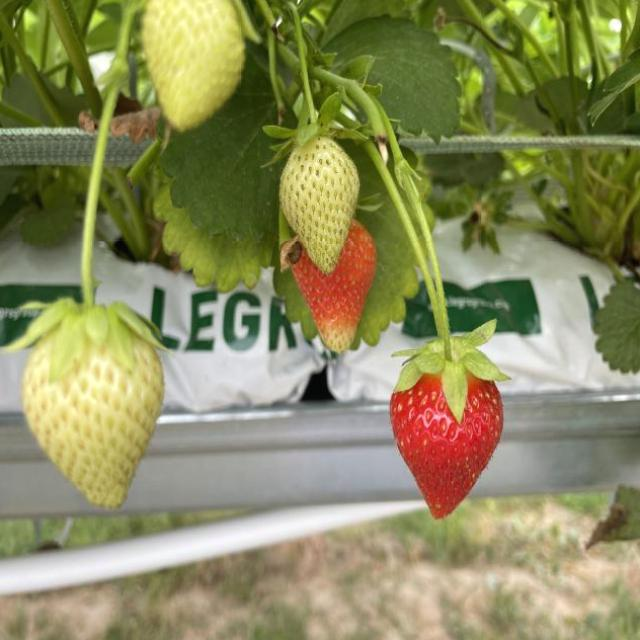stem: (359, 106, 507, 421), (6, 162, 163, 375), (263, 7, 368, 146)
strawberryNR: (22, 336, 163, 506), (140, 0, 244, 130), (279, 136, 360, 274)
strawberryR: (390, 377, 500, 516), (292, 220, 375, 352)
